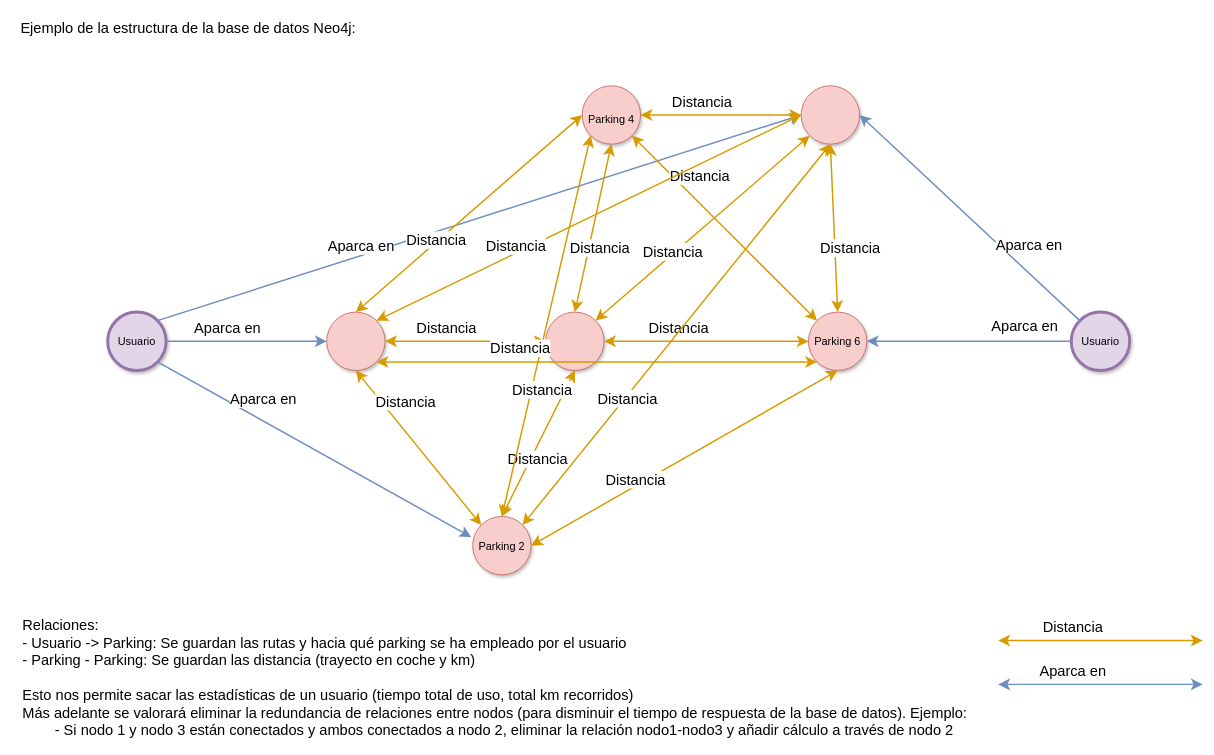
Image size: 1214x755. Some labels were removed from this diagram. The centre of each missing label's shape, as x and y in pixels:
"Parking 1" goes at pixel 356 342.
"Parking 3" goes at pixel 575 342.
"Parking 5" goes at pixel 831 115.
